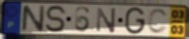6: (74, 6, 91, 34)
C: (147, 8, 170, 35)
G: (124, 6, 147, 36)
N: (20, 4, 46, 33), (96, 7, 118, 34)
S: (44, 4, 69, 34)
